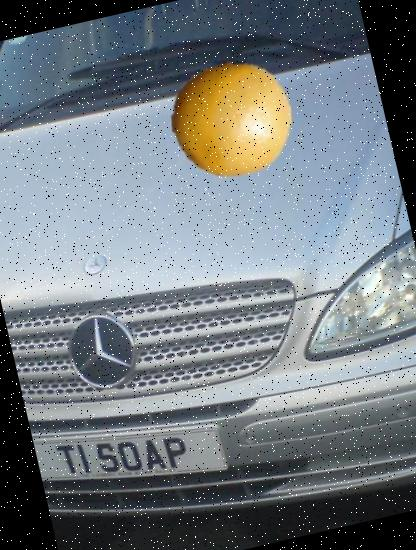Grapefruit: (160, 46, 304, 190)
